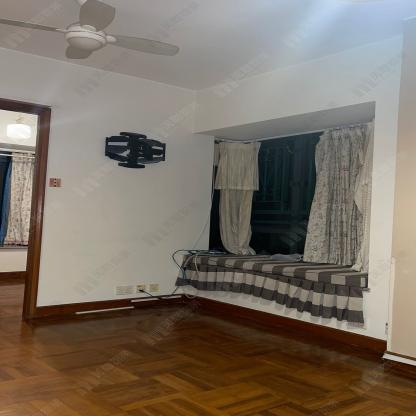Windowsill: (182, 100, 378, 289)
